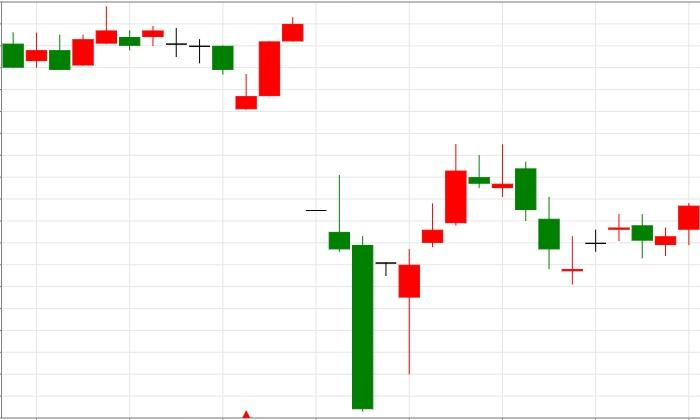bearish_engulfing_fall: (561, 213, 654, 285)
three_white_soldiers_rise: (282, 16, 467, 411), (141, 16, 303, 109)
